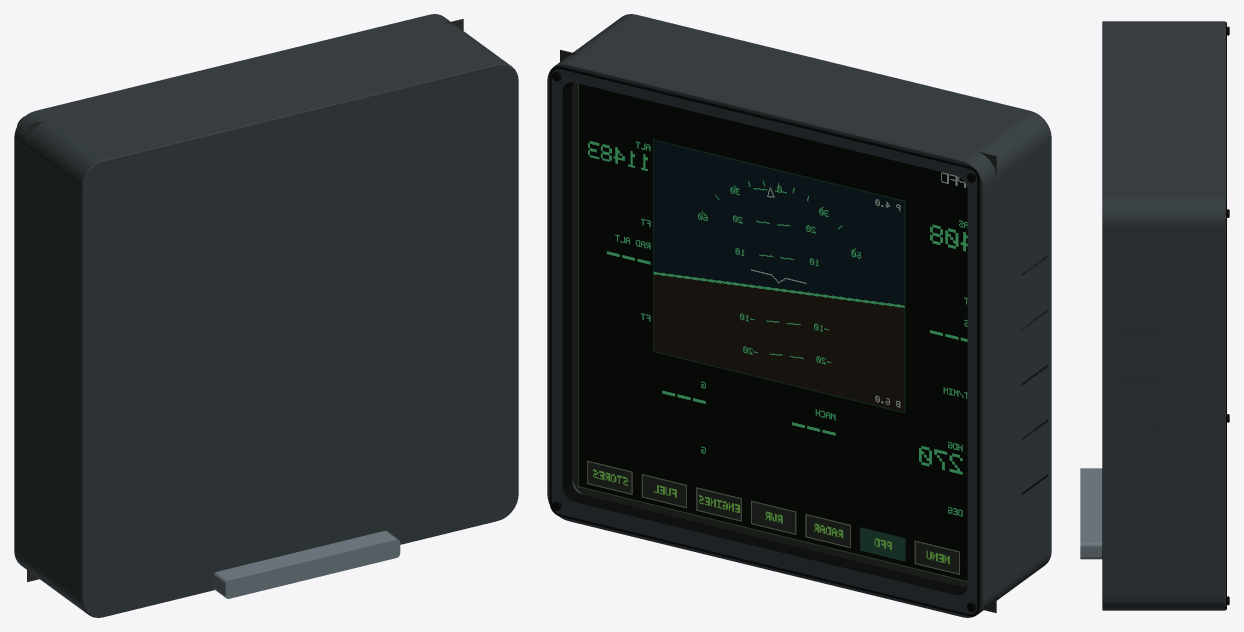
Rendered from MFDStudio.obj.
3 views of the same model, side by side, from view 1: azimuth 30°, elevation 25°; view 2: azimuth 150°, elevation 25°; view 3: azimuth 270°, elevation 25° (orthographic). The views are drawn at different scales.
Parts seen in each view (by area): view 1: MFDStudioBody; view 2: MFDStudioScreen, MFDStudioBody; view 3: MFDStudioBody.
Boxes of the visible parts, x1=… form: MFDStudioBody: x1=14, y1=14, x2=518, y2=617; MFDStudioScreen: x1=560, y1=50, x2=996, y2=612; MFDStudioBody: x1=547, y1=14, x2=1051, y2=617; MFDStudioBody: x1=1080, y1=21, x2=1226, y2=610.
Size of the model in its own units: 0.25 by 0.25 by 0.082.
7 materials, 1 textured.
